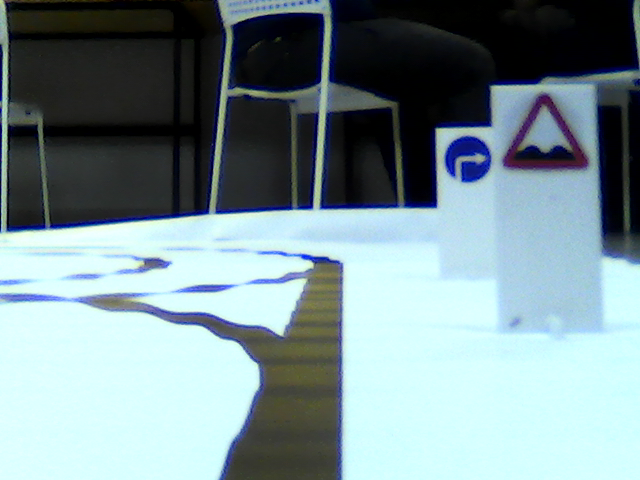Nerov: (503, 90, 588, 168)
Right: (445, 136, 491, 184)
